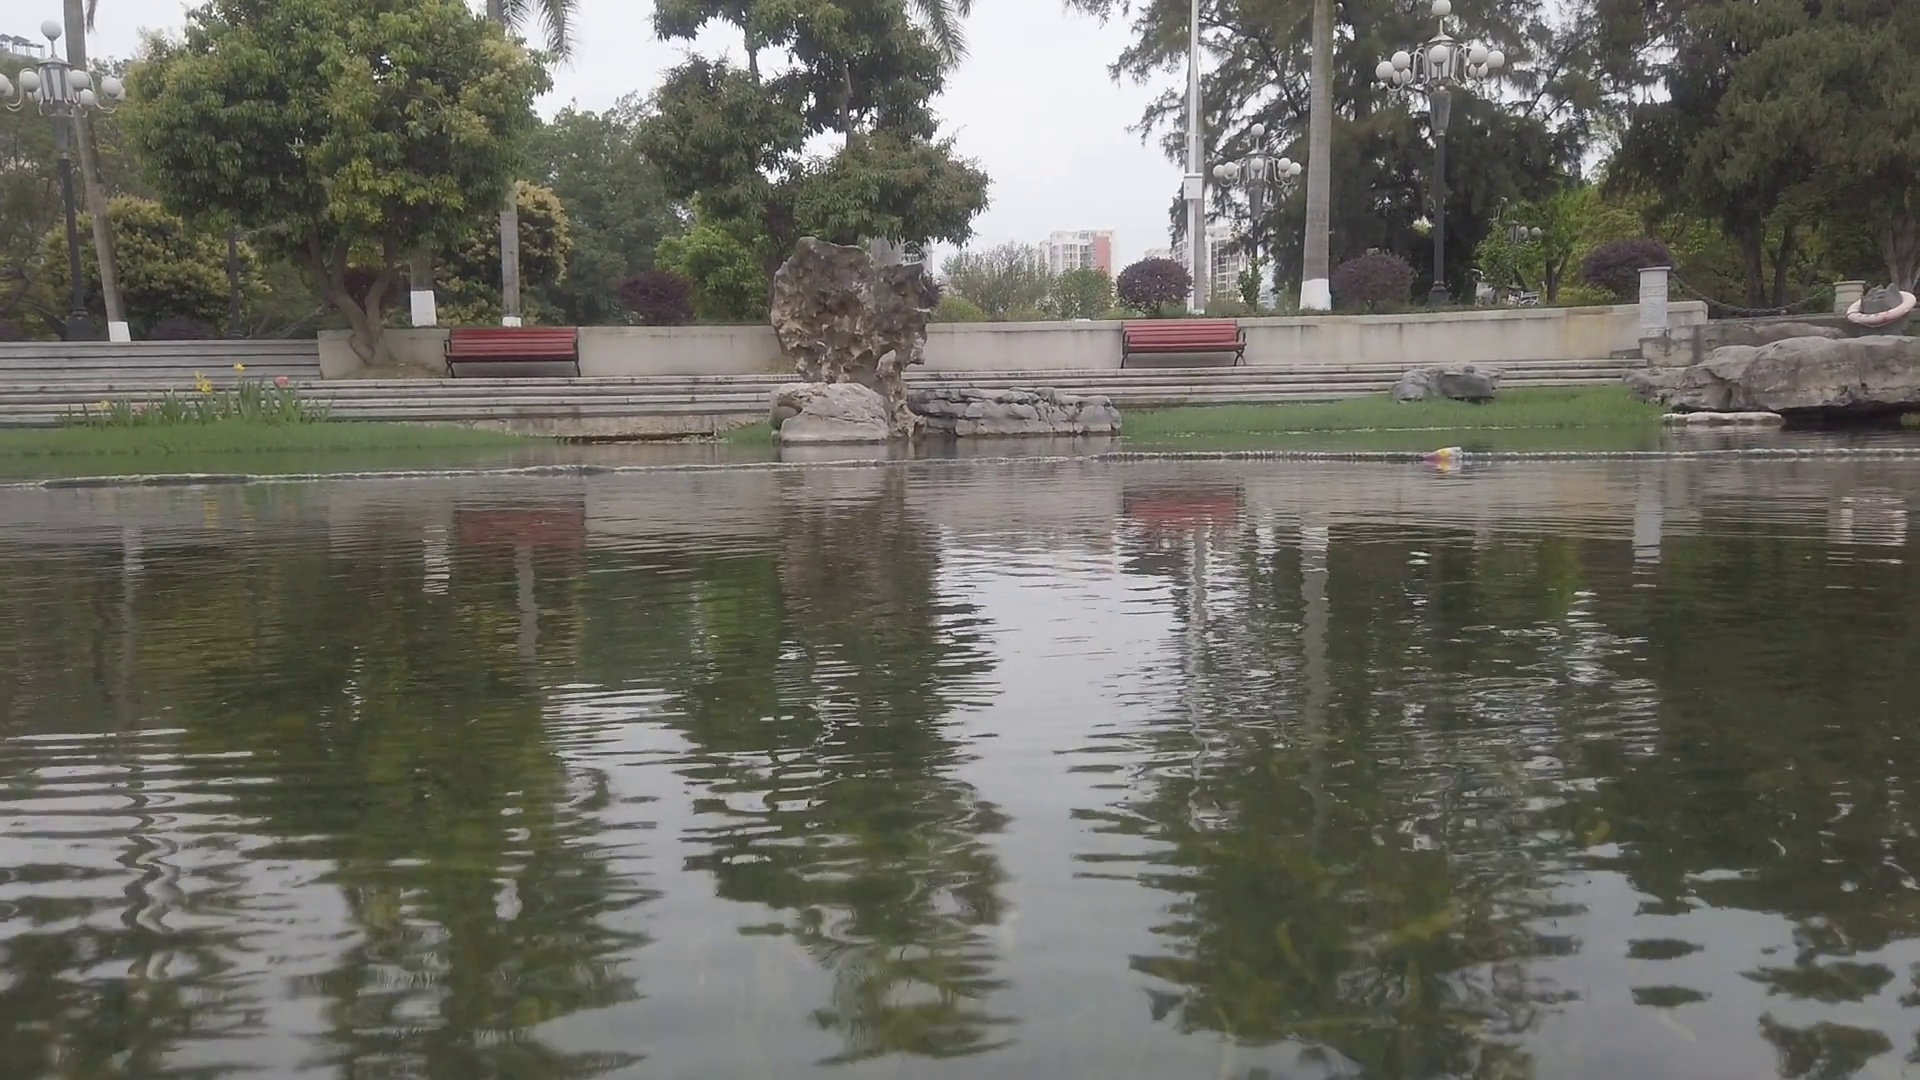bottle: (1415, 447, 1465, 462)
